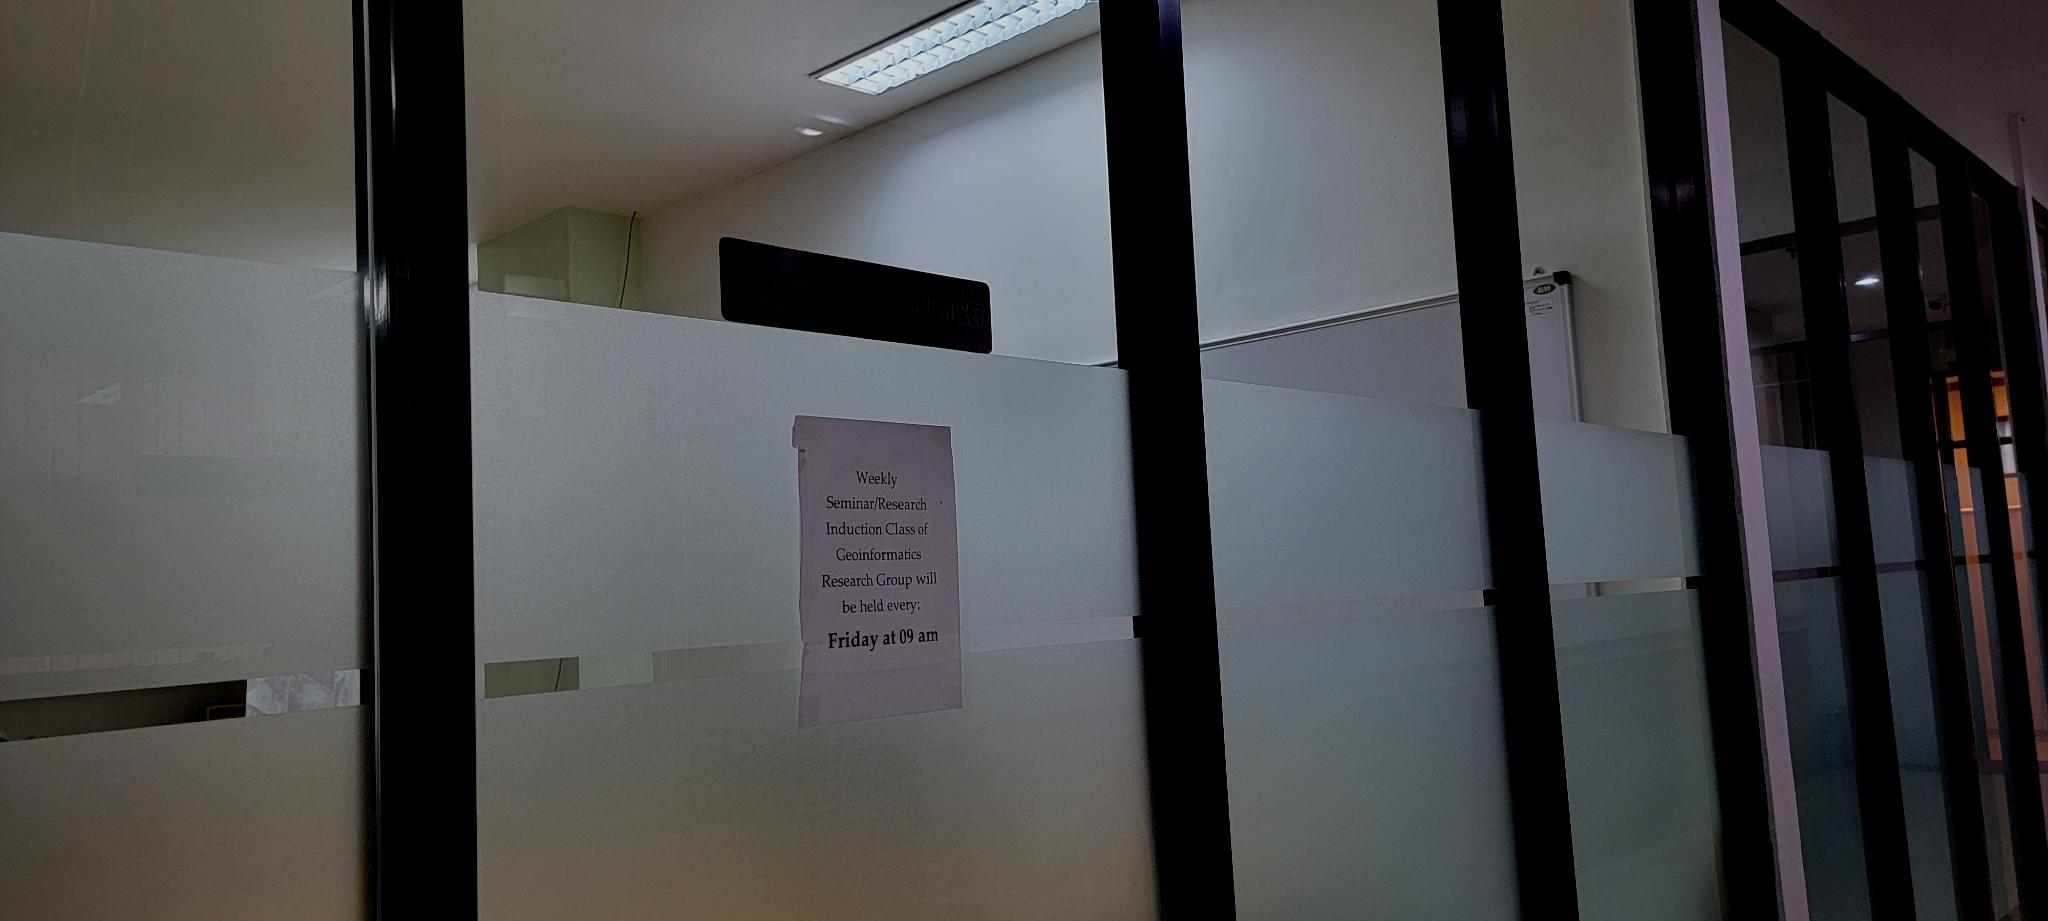plate: (716, 234, 994, 359)
